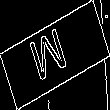M_SE: (32, 23, 78, 87)
